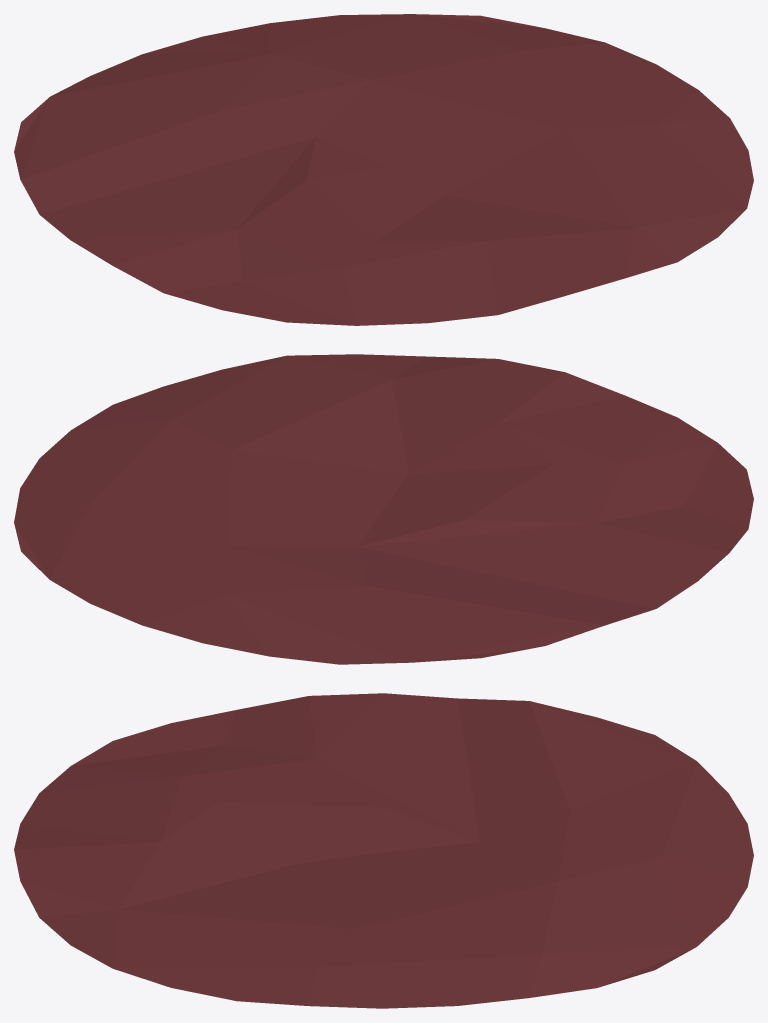
Rendered from ground.gltf.
3 renders of one model, top to bottom at view 1: azimuth 30°, elevation 25°; view 2: azimuth 150°, elevation 25°; view 3: azimuth 270°, elevation 25°, orthographic. The views are drawn at different scales.
Visible parts, largest first — view 1: Plane; view 2: Plane; view 3: Plane.
Boxes of the visible parts, x1=… form: Plane: x1=14, y1=14, x2=753, y2=325; Plane: x1=14, y1=354, x2=753, y2=664; Plane: x1=14, y1=693, x2=753, y2=1008.
Size of the model in its own units: 795 by 13.41 by 795.
